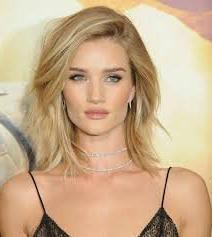Sober: (67, 44, 133, 128)
